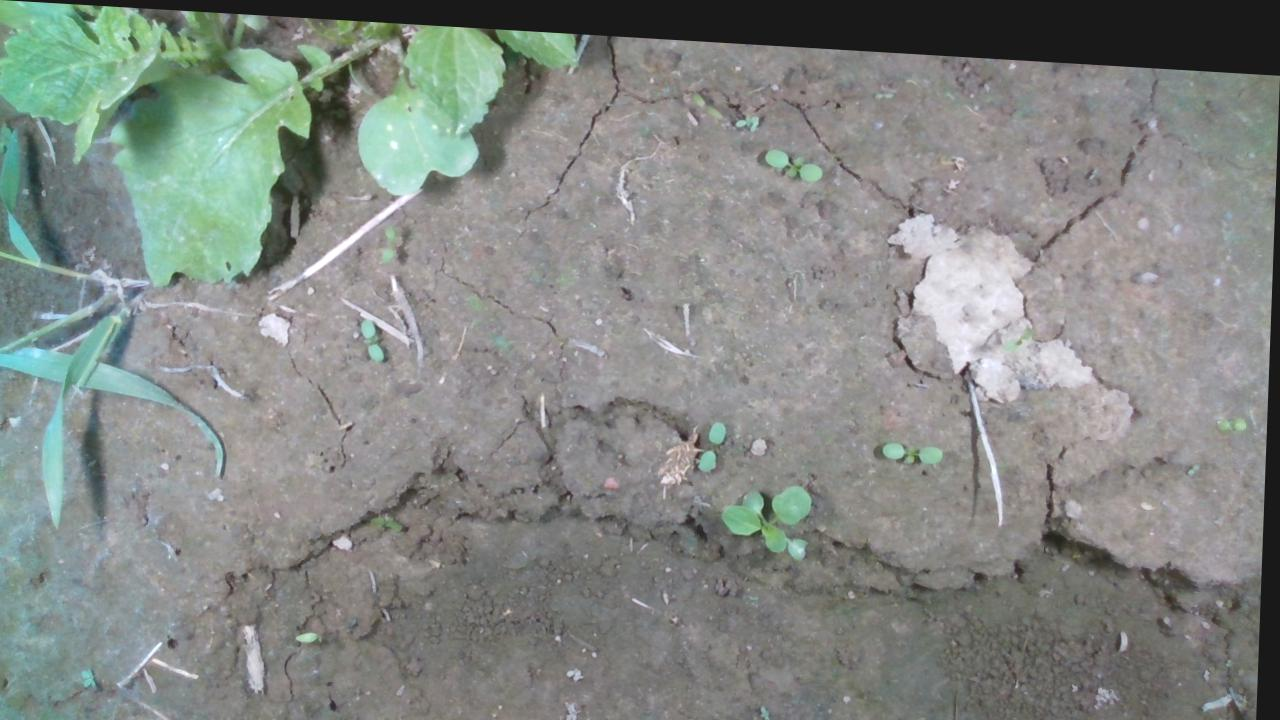weed: (762, 136, 825, 174), (882, 428, 947, 456), (698, 409, 729, 464), (359, 310, 388, 357), (688, 81, 726, 111), (1214, 397, 1250, 417), (83, 665, 102, 688), (1188, 446, 1201, 461)
